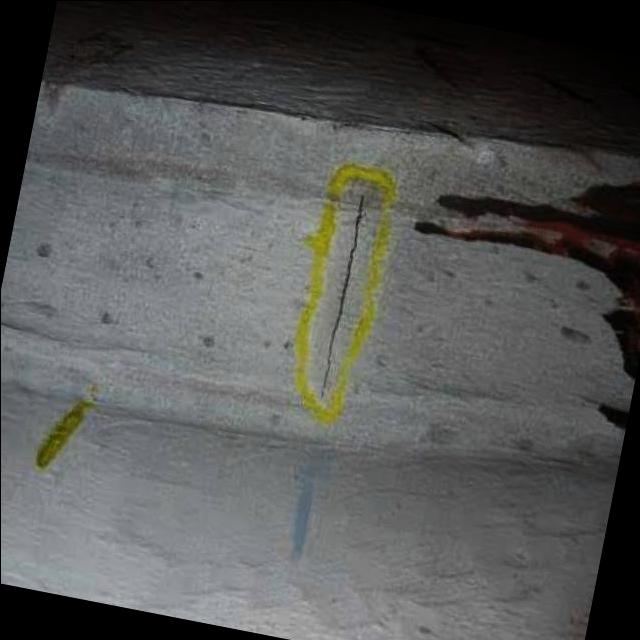defect: (315, 189, 370, 403)
